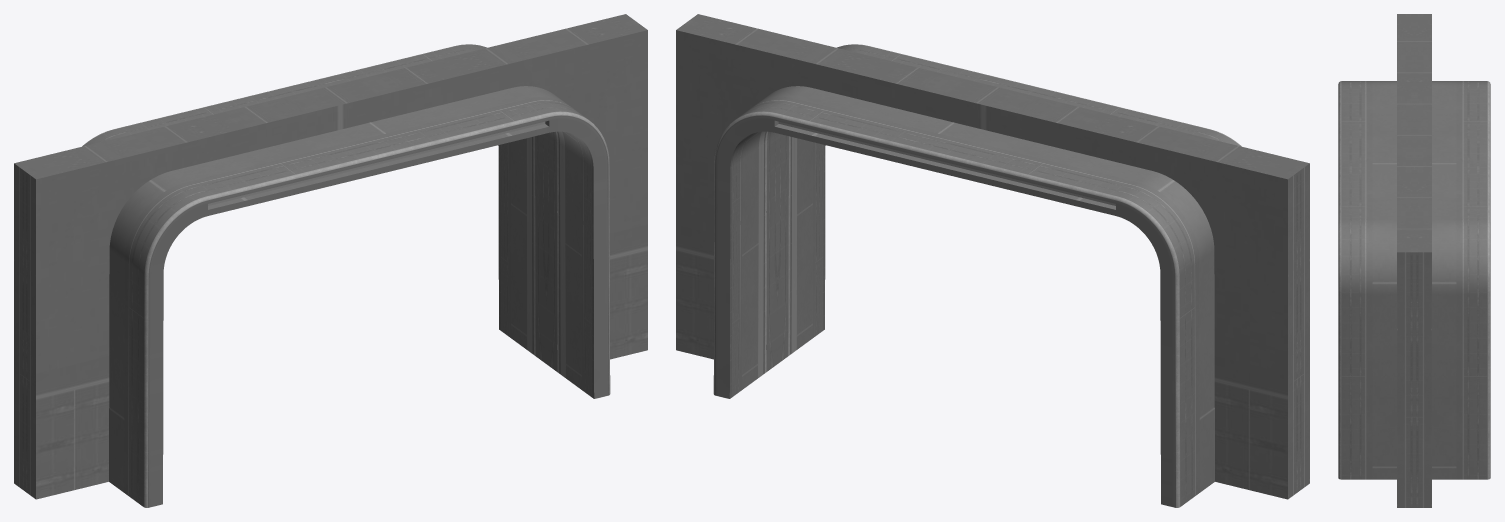
The model's file is SM_entrance_02.glb.
3 views of the same model, side by side, from view 1: azimuth 30°, elevation 25°; view 2: azimuth 150°, elevation 25°; view 3: azimuth 270°, elevation 25° (orthographic). The views are drawn at different scales.
Parts seen in each view (by area): view 1: SM_entrance_02; view 2: SM_entrance_02; view 3: SM_entrance_02.
Boxes of the visible parts, x1,y1,x2,y2 form: SM_entrance_02: (14, 14, 647, 507); SM_entrance_02: (676, 14, 1309, 507); SM_entrance_02: (1338, 14, 1490, 507).
Size of the model in its own units: 8 by 4 by 2.16.
Materials: 1 (1 with a texture image).
